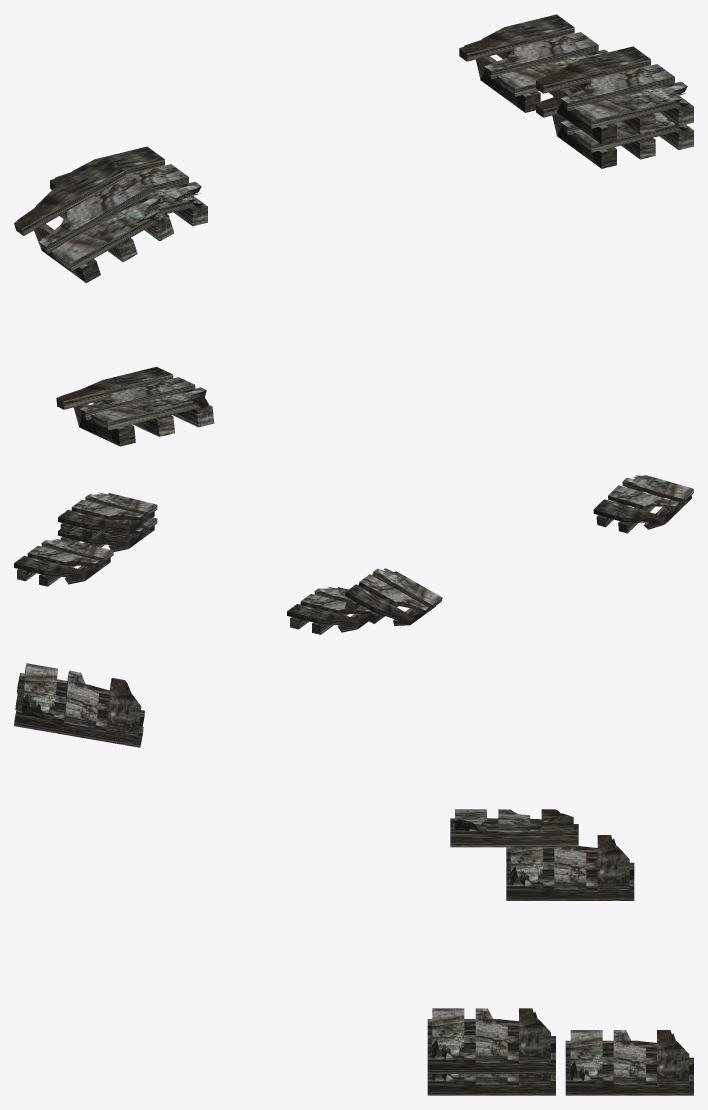
File: Tablones.fbx
3 renders of one model, top to bottom at view 1: azimuth 30°, elevation 25°; view 2: azimuth 150°, elevation 25°; view 3: azimuth 270°, elevation 25°, orthographic. The views are drawn at different scales.
Parts seen in each view (by area): view 1: Tablones.041, Tablones.010, Tablones.014, Tablones.034, Tablones.003, Tablones.027; view 2: Tablones.014, Tablones.041, Tablones.010, Tablones.034, Tablones.003, Tablones.027; view 3: Tablones.034, Tablones.010, Tablones.014, Tablones.003, Tablones.041, Tablones.027.
Part boxes in pixels (left/top/right/bottom): Tablones.041: left=14, top=157, right=174, bottom=283; Tablones.010: left=536, top=46, right=693, bottom=144; Tablones.014: left=56, top=366, right=214, bottom=446; Tablones.034: left=459, top=14, right=607, bottom=112; Tablones.003: left=50, top=146, right=207, bottom=226; Tablones.027: left=536, top=87, right=693, bottom=168; Tablones.014: left=593, top=475, right=693, bottom=533; Tablones.041: left=345, top=568, right=442, bottom=625; Tablones.010: left=58, top=492, right=157, bottom=540; Tablones.034: left=14, top=538, right=113, bottom=586; Tablones.003: left=287, top=586, right=369, bottom=634; Tablones.027: left=58, top=517, right=157, bottom=551; Tablones.034: left=565, top=1030, right=693, bottom=1095; Tablones.010: left=427, top=1008, right=555, bottom=1073; Tablones.014: left=14, top=663, right=144, bottom=747; Tablones.003: left=506, top=835, right=634, bottom=900; Tablones.041: left=450, top=809, right=578, bottom=847; Tablones.027: left=427, top=1074, right=555, bottom=1095.
Size of the model in its own units: 389 by 39.62 by 311.
